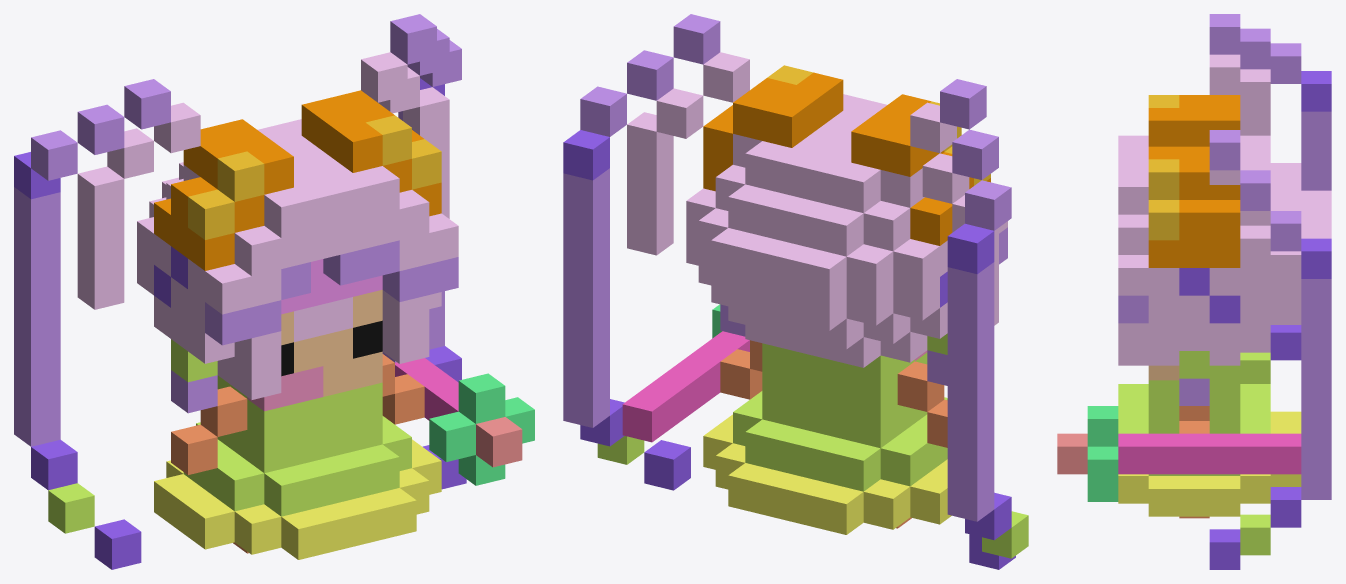
File: chr_rain.fbx
The picture shows the model from 3 angles, left to right: view 1: azimuth 30°, elevation 25°; view 2: azimuth 150°, elevation 25°; view 3: azimuth 270°, elevation 25°; orthographic projection. The views are drawn at different scales.
Visible parts, largest first — view 1: 对象; view 2: 对象; view 3: 对象.
Boxes of the visible parts, bbox=[...] form: 对象: bbox=[14, 14, 534, 569]; 对象: bbox=[563, 14, 1028, 569]; 对象: bbox=[1057, 14, 1331, 569].
Bounding box in the file's own units: 14 × 15 × 9.
Materials: 1 (1 with a texture image).
